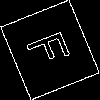F: (25, 25, 80, 70)
